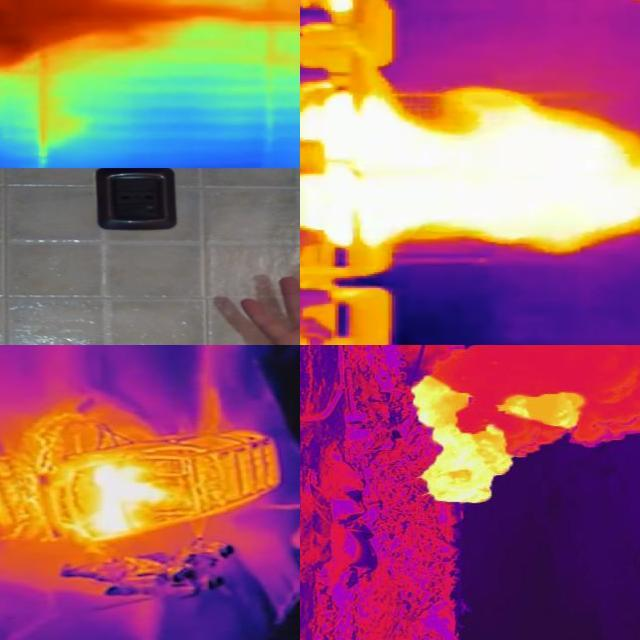fire: (301, 91, 631, 260), (413, 378, 588, 509), (77, 460, 185, 541), (2, 1, 99, 61)
